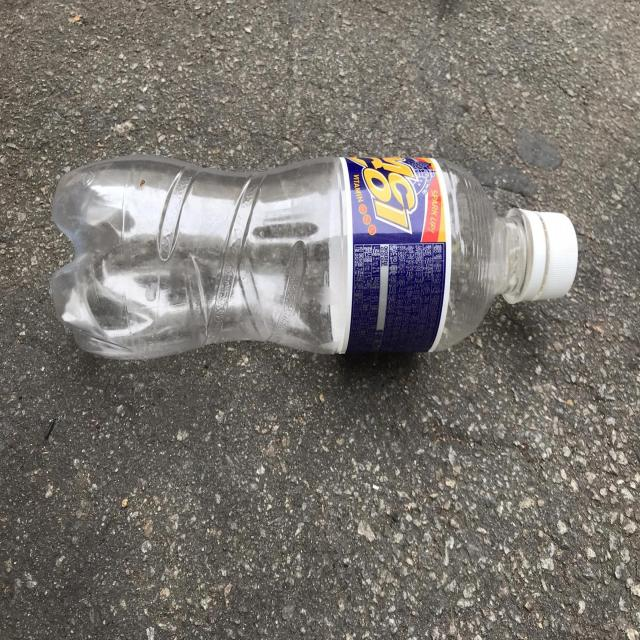plastic: (51, 155, 579, 359)
